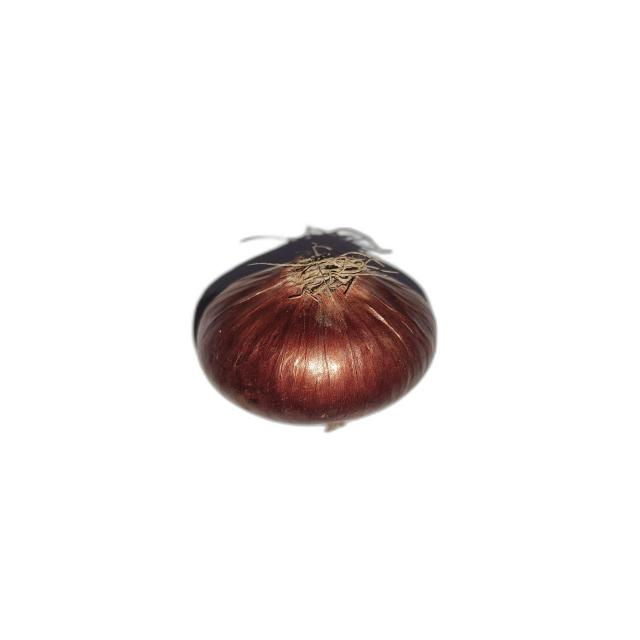onion: (193, 243, 438, 433)
